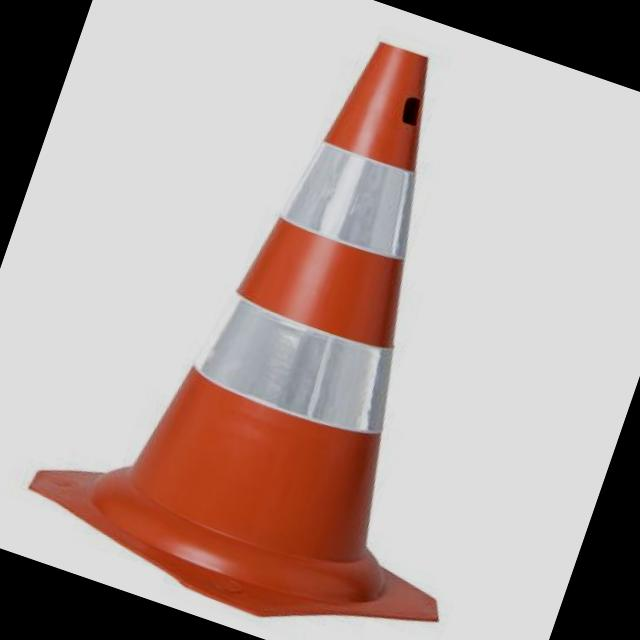cone: (60, 0, 603, 640)
